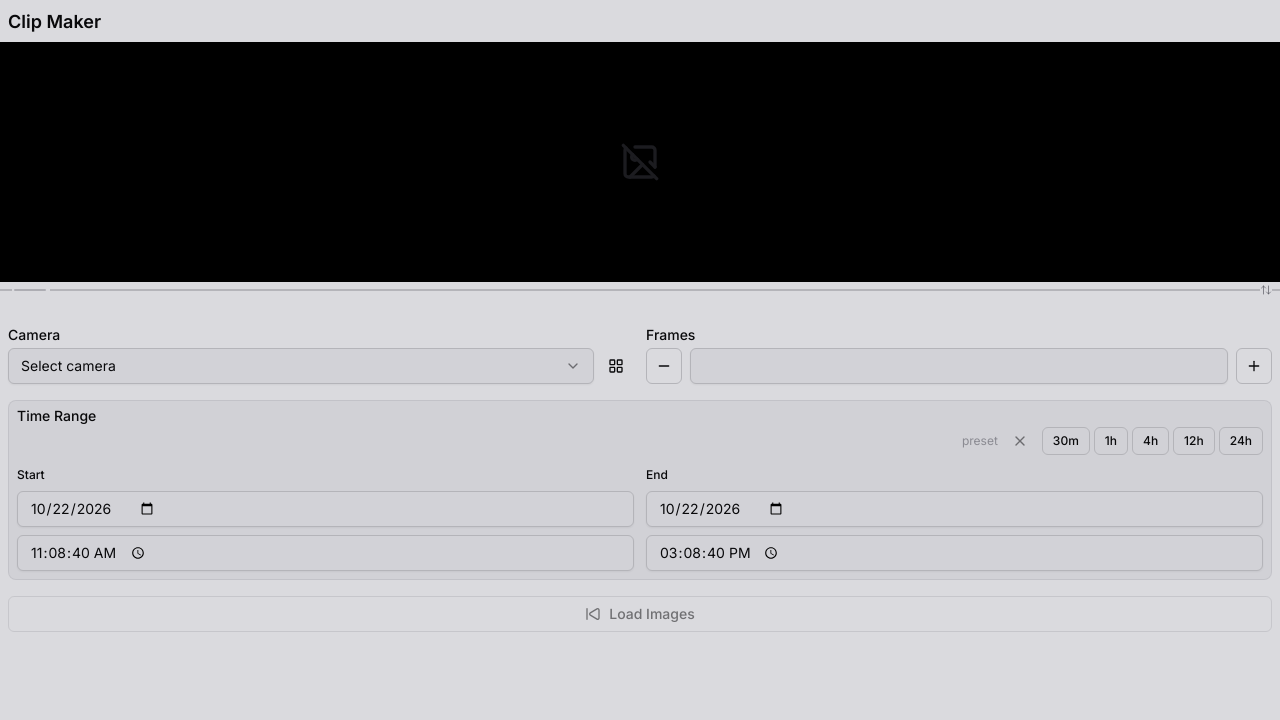
clip parameters resolve by their visible labels › the multi-camera buttons are a group named by the pluralised label
The width and height of the screenshot is (1280, 720).
Click the button named "Switch to multi-camera" at (616, 366), box left=598, top=348, right=634, bottom=384
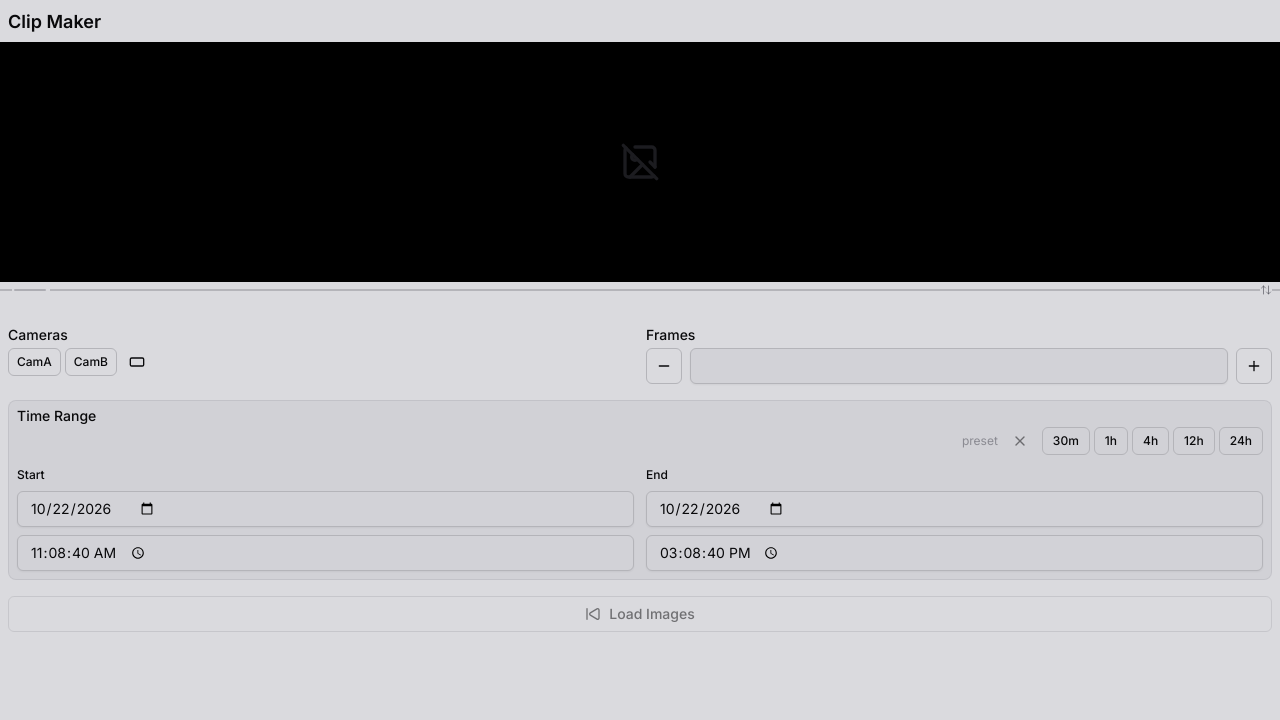
Check: the element named "Cameras" is shown, box left=8, top=348, right=153, bottom=376
